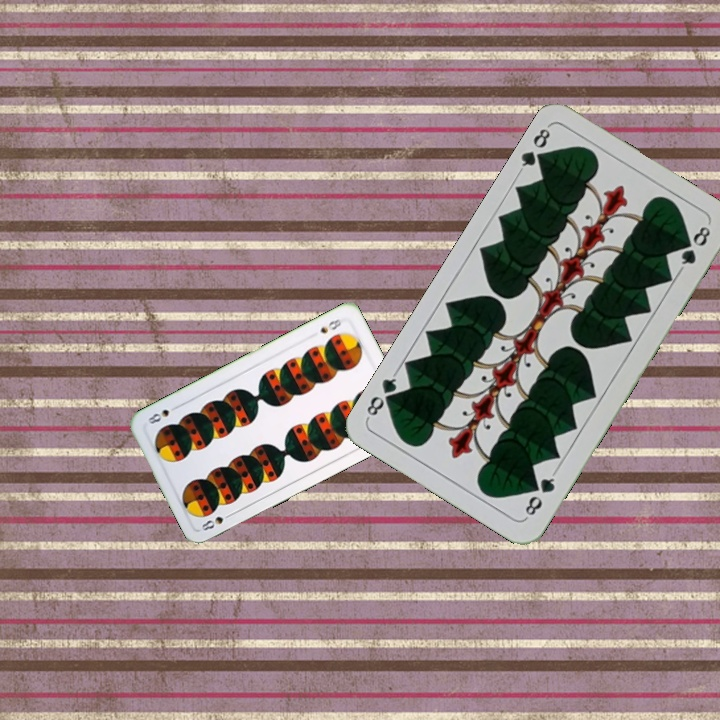G8: (514, 122, 555, 175), (521, 468, 558, 521)
S8: (197, 508, 236, 533), (316, 314, 344, 336)
